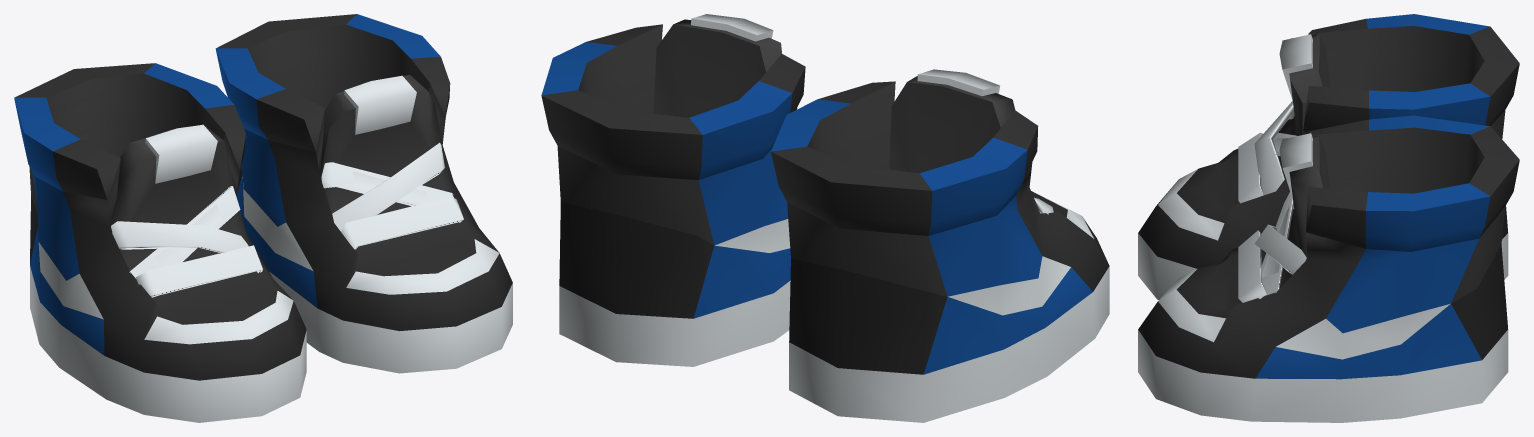
The model's file is Shoes_8.fbx.
The picture shows the model from 3 angles, left to right: view 1: azimuth 30°, elevation 25°; view 2: azimuth 150°, elevation 25°; view 3: azimuth 270°, elevation 25°; orthographic projection. The views are drawn at different scales.
Visible parts, largest first — view 1: Shoes_8; view 2: Shoes_8; view 3: Shoes_8.
Boxes of the visible parts, box(x1,y1,x2,y2) form: Shoes_8: box(14, 14, 512, 422); Shoes_8: box(541, 14, 1109, 422); Shoes_8: box(1138, 14, 1519, 422).
Size of the model in its own units: 41.7 by 22.5 by 34.02.
